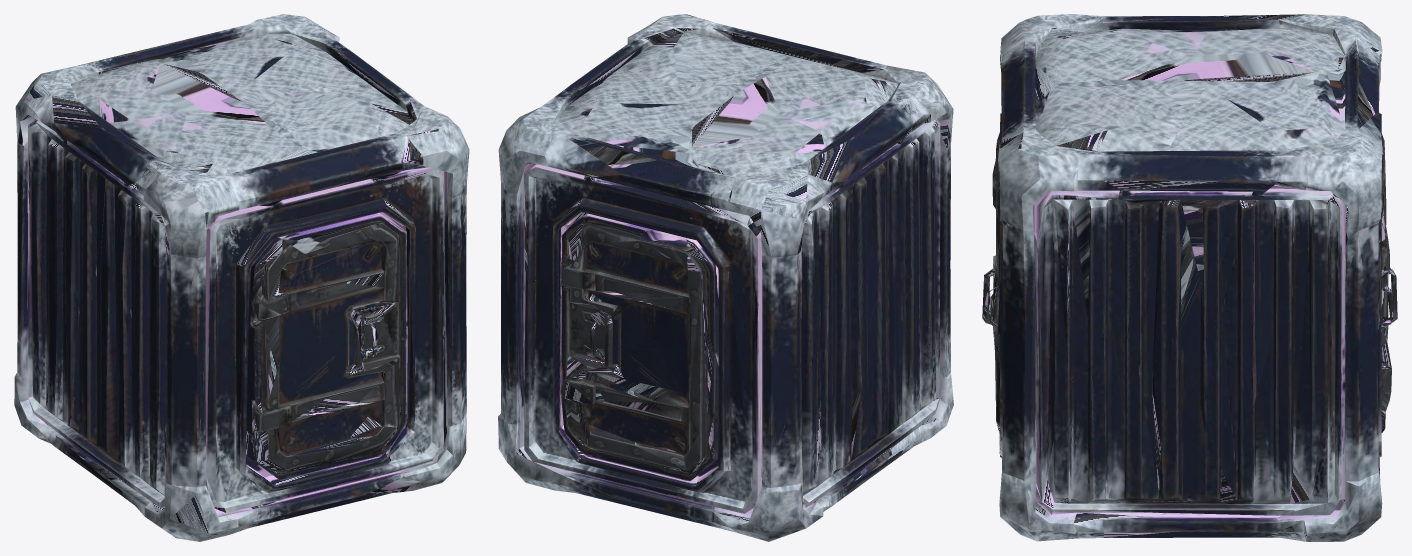
File: prop_cargo-high.glb
3 views of the same model, side by side, from view 1: azimuth 30°, elevation 25°; view 2: azimuth 150°, elevation 25°; view 3: azimuth 270°, elevation 25° (orthographic). The views are drawn at different scales.
Parts seen in each view (by area): view 1: Mesh_0; view 2: Mesh_0; view 3: Mesh_0.
Part boxes in pixels (x1,y1,x2,y2): Mesh_0: (14, 14, 469, 541); Mesh_0: (498, 14, 953, 541); Mesh_0: (982, 14, 1397, 541).
Bounding box in the file's own units: 1.68 × 1.9 × 1.83.
Materials: 1 (1 with a texture image).
